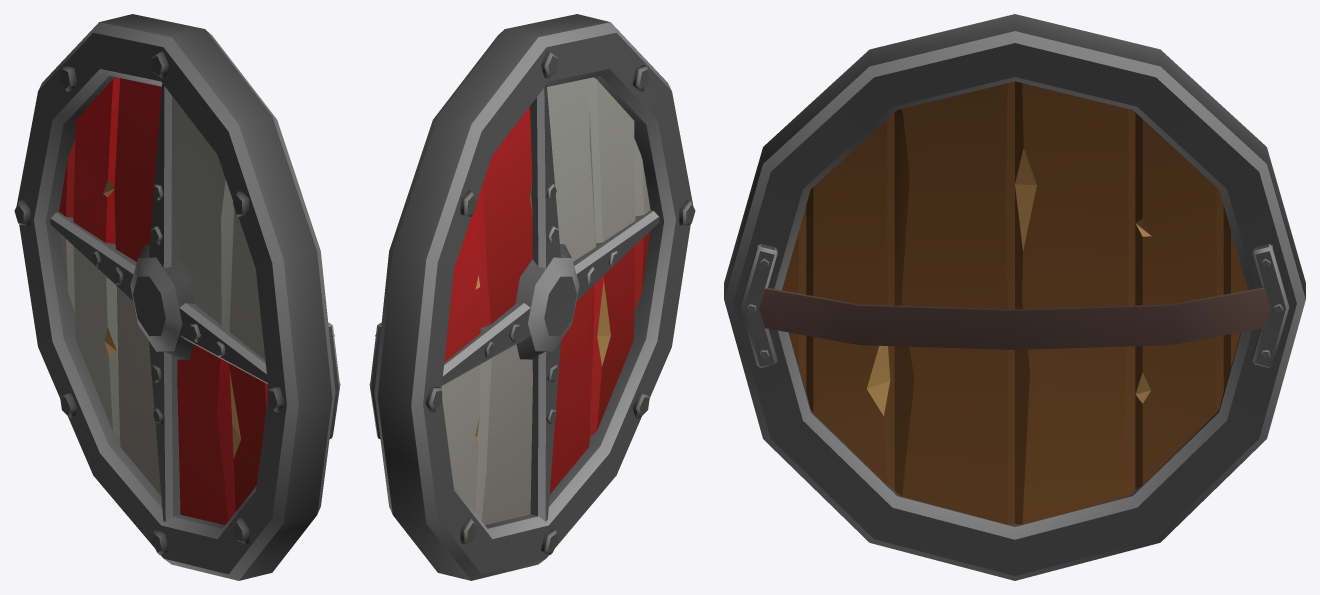
File: Shield_2_A.glb
3 renders of one model, left to right at view 1: azimuth 30°, elevation 25°; view 2: azimuth 150°, elevation 25°; view 3: azimuth 270°, elevation 25°, orthographic. The views are drawn at different scales.
Visible parts, largest first — view 1: Shield_2_A; view 2: Shield_2_A; view 3: Shield_2_A.
Part boxes in pixels (box(x1,y1,x2,y2)): Shield_2_A: box(14, 14, 340, 580); Shield_2_A: box(369, 14, 695, 580); Shield_2_A: box(724, 14, 1305, 580).
Size of the model in its own units: 0.1519 by 0.7075 by 0.6784.
Materials: 2 (2 with a texture image).
